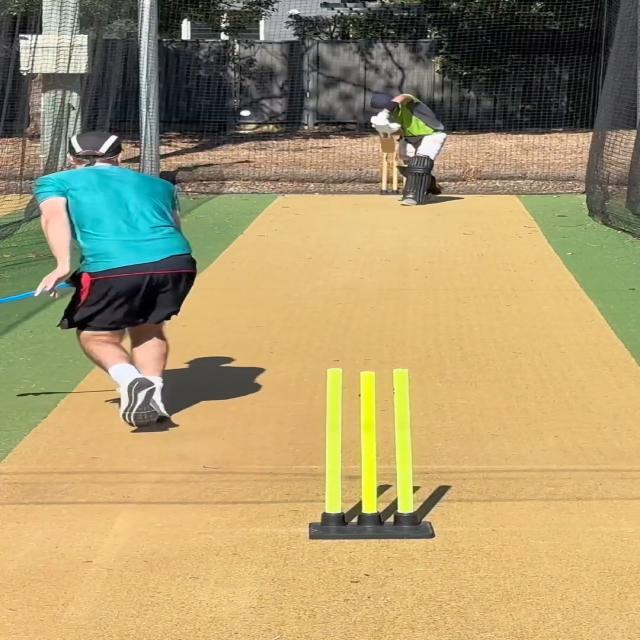ball: (238, 110, 252, 118)
stump: (302, 364, 437, 541)
